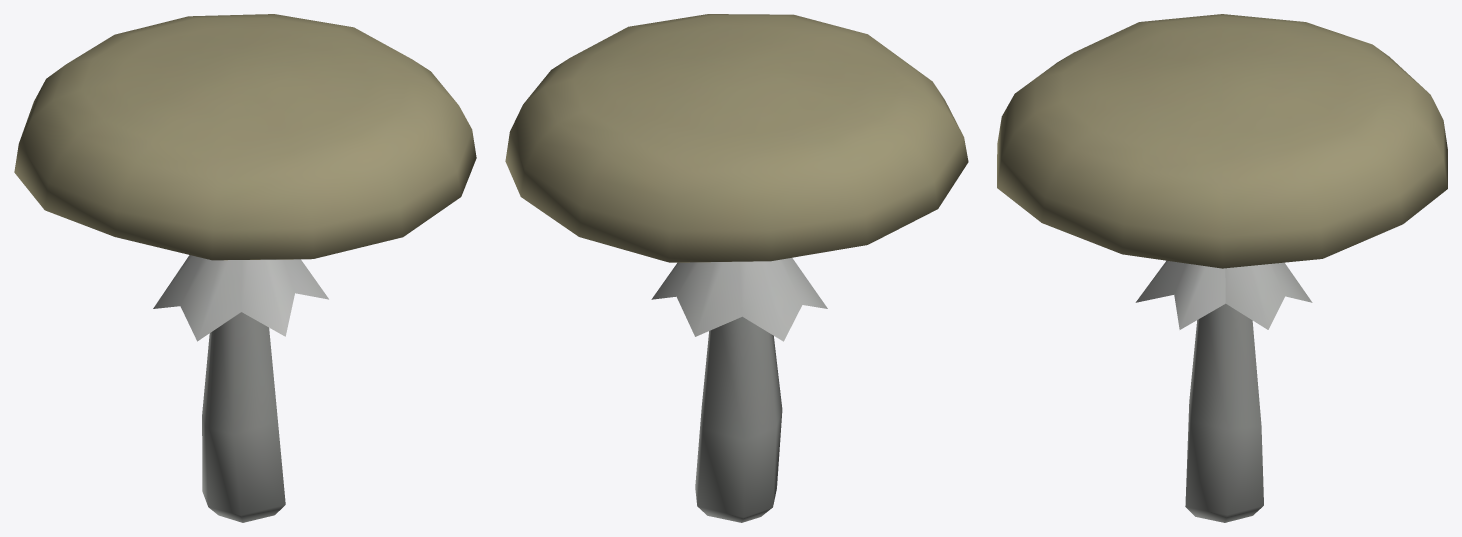
Rendered from mushroom.08.glb.
The picture shows the model from 3 angles, left to right: view 1: azimuth 30°, elevation 25°; view 2: azimuth 150°, elevation 25°; view 3: azimuth 270°, elevation 25°; orthographic projection.
Visible parts, largest first — view 1: Cylinder.006; view 2: Cylinder.006; view 3: Cylinder.006.
Boxes of the visible parts, x1=… form: Cylinder.006: x1=14, y1=14, x2=476, y2=522; Cylinder.006: x1=505, y1=14, x2=968, y2=522; Cylinder.006: x1=997, y1=14, x2=1447, y2=522.
Size of the model in its own units: 0.1655 by 0.174 by 0.1613.
1 material, 1 textured.
